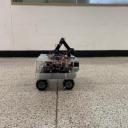cart: (35, 53, 80, 91)
